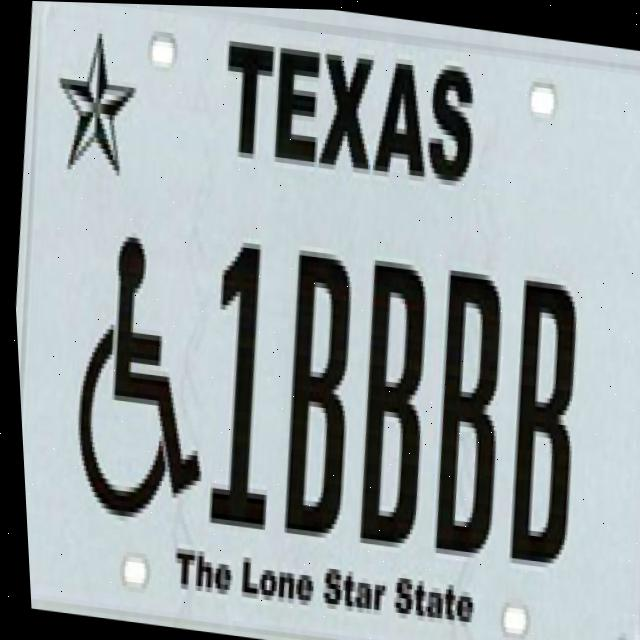symbol_of_access: (53, 217, 223, 536)
